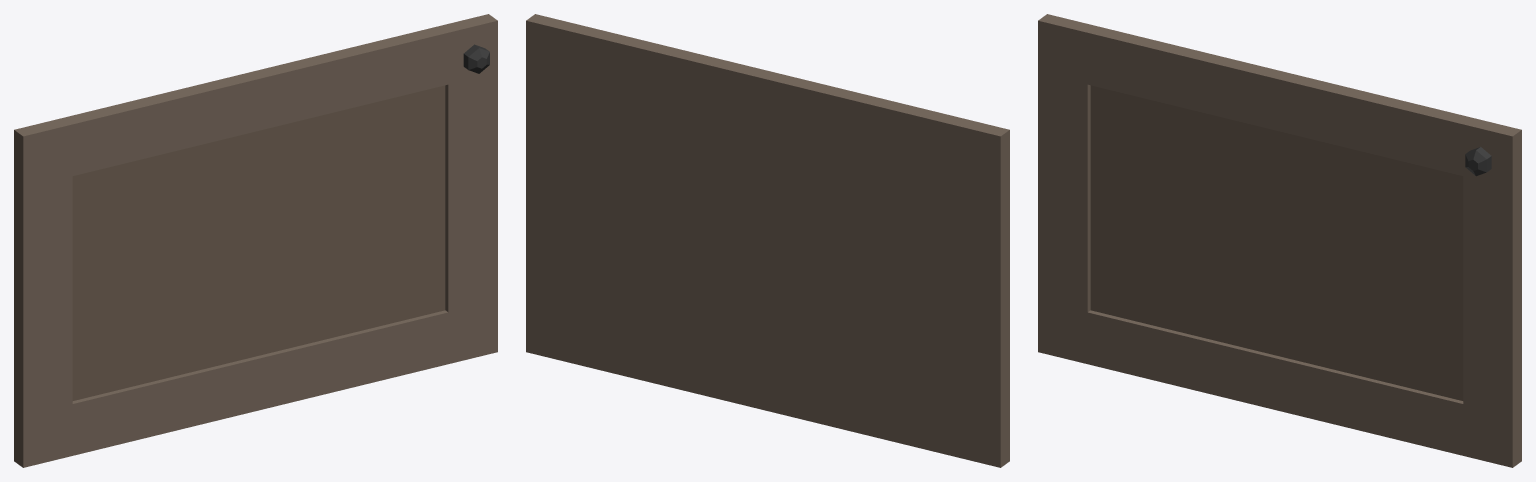
The model's file is TV_Table3_C3_03.fbx.
3 renders of one model, left to right at view 1: azimuth 30°, elevation 25°; view 2: azimuth 150°, elevation 25°; view 3: azimuth 330°, elevation 25°, orthographic.
Parts seen in each view (by area): view 1: TV_Table3_C3_03; view 2: TV_Table3_C3_03; view 3: TV_Table3_C3_03.
Boxes of the visible parts, bbox=[...] form: TV_Table3_C3_03: bbox=[14, 14, 497, 467]; TV_Table3_C3_03: bbox=[526, 14, 1009, 467]; TV_Table3_C3_03: bbox=[1038, 14, 1521, 467].
Bounding box in the file's own units: 59.97 × 40.02 × 4.58.
